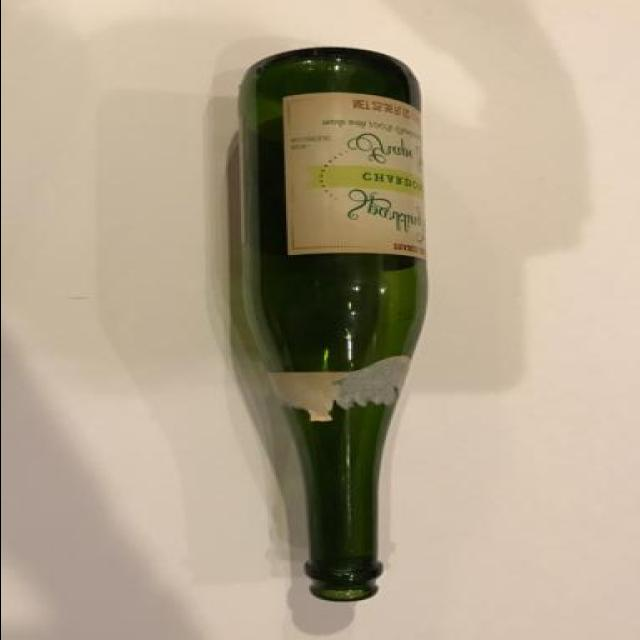glass: (204, 36, 448, 608)
